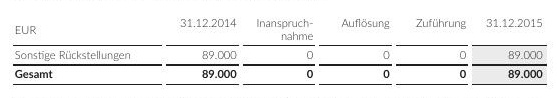table: (0, 0, 557, 98)
